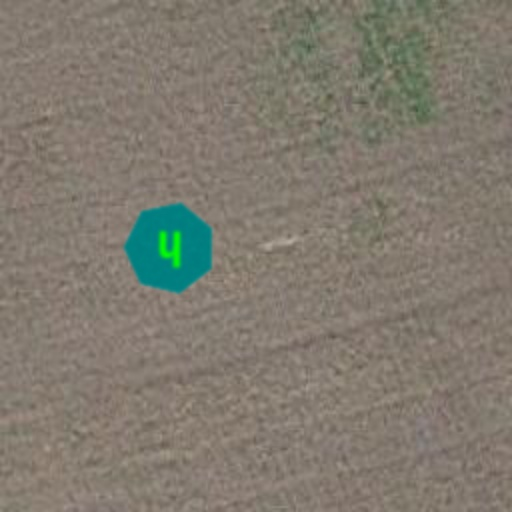heptagon: (122, 200, 218, 296)
